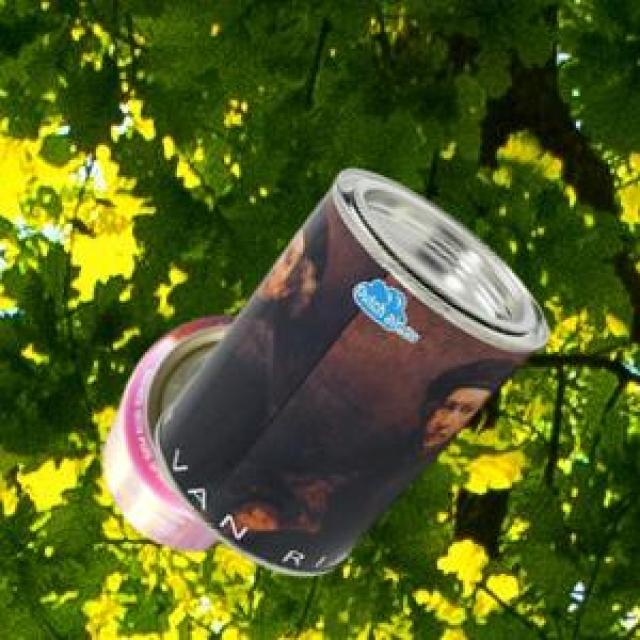logam: (153, 165, 545, 573), (101, 313, 234, 547)
